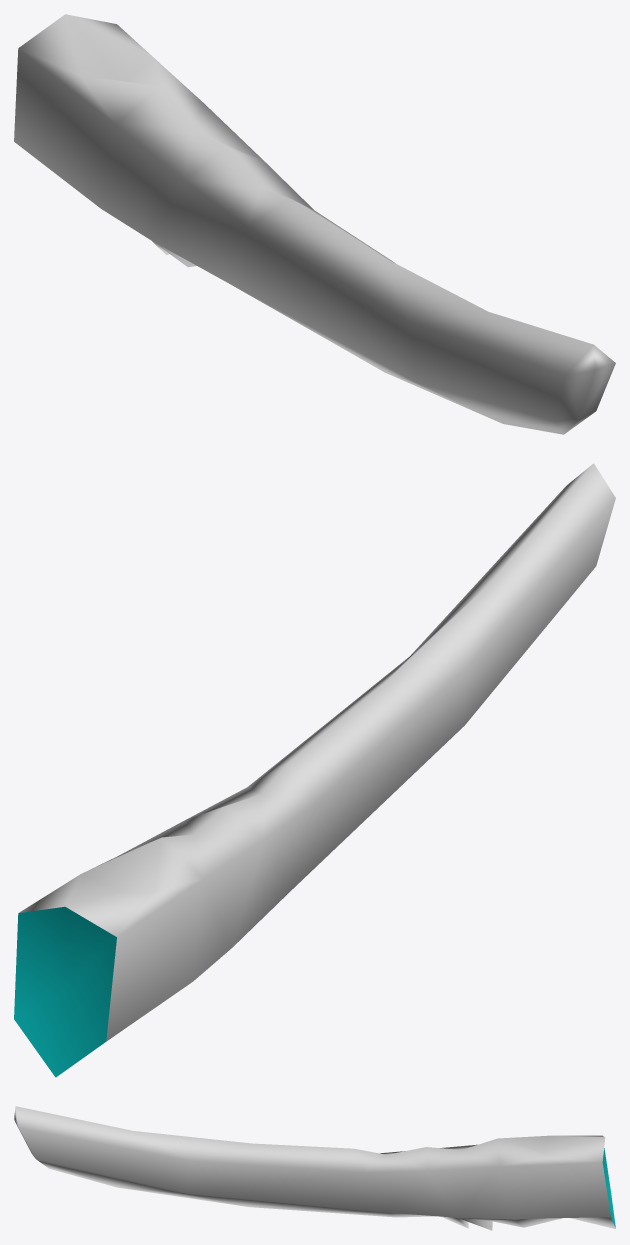
3 renders of one model, top to bottom at view 1: azimuth 30°, elevation 25°; view 2: azimuth 150°, elevation 25°; view 3: azimuth 270°, elevation 25°, orthographic. The views are drawn at different scales.
Parts seen in each view (by area): view 1: mSaya; view 2: mSaya; view 3: mSaya.
Part boxes in pixels (x1=…): mSaya: x1=14, y1=14, x2=615, y2=434; mSaya: x1=14, y1=463, x2=615, y2=1077; mSaya: x1=14, y1=1106, x2=615, y2=1230.
Bounding box in the file's own units: 0.0756 × 0.1633 × 0.7147.
